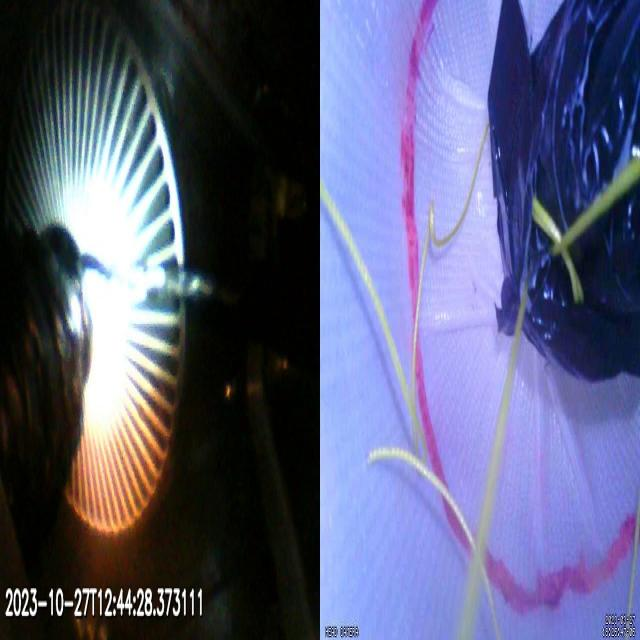red-circle: (400, 0, 639, 613)
